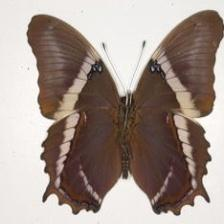butterfly: (26, 10, 224, 216)
